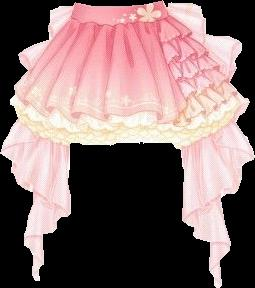Hemline: (13, 18, 186, 123), (9, 94, 242, 148), (173, 91, 239, 126), (18, 9, 54, 70), (182, 77, 229, 100), (174, 64, 220, 82), (168, 50, 207, 62), (161, 31, 191, 44)
Waistline: (71, 1, 171, 26), (74, 0, 162, 8)
